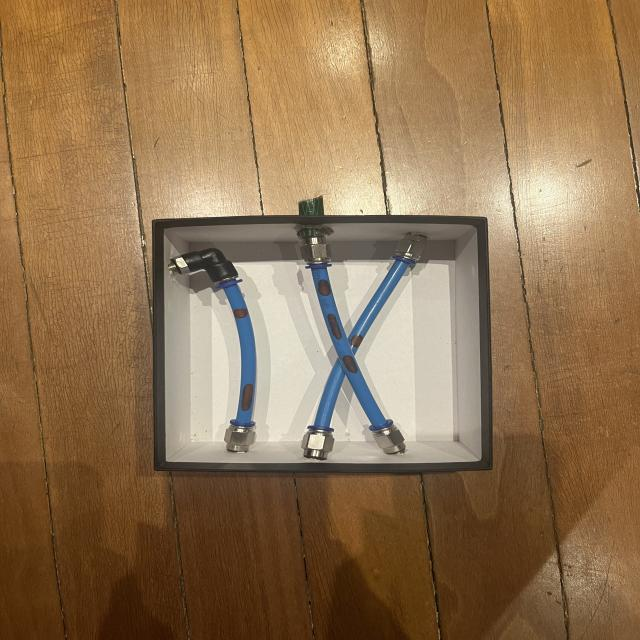hose_damage: (324, 312, 344, 340), (240, 384, 254, 412), (340, 354, 359, 374), (314, 279, 332, 297), (349, 333, 364, 348), (232, 308, 248, 319)
